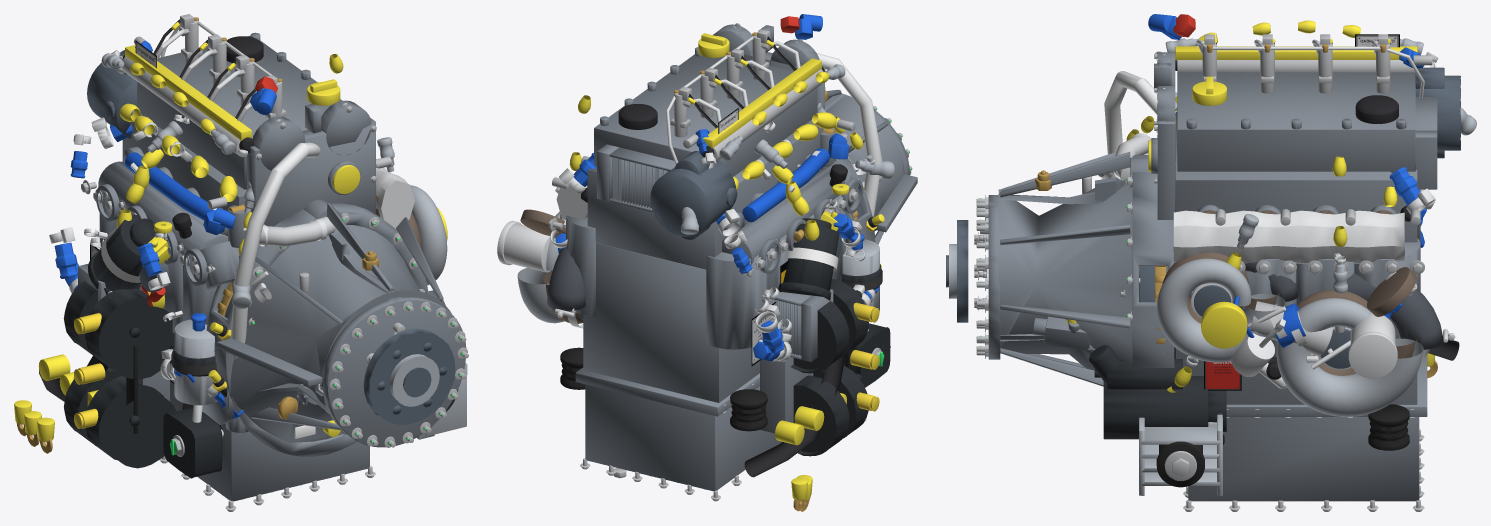
File: vrde_jayem_2_2l.glb
The picture shows the model from 3 angles, left to right: view 1: azimuth 30°, elevation 25°; view 2: azimuth 150°, elevation 25°; view 3: azimuth 270°, elevation 25°; orthographic projection. The views are drawn at different scales.
Visible parts, largest first — view 1: Gearbox_M_CastAluminium_0, Timing_Cover_Front_M_CastAluminium_0, Gearbox_FrontCover_M_CastAluminium_0, Valve_Cover_M_PlasticBlack_0, Generator_1_M_CastAluminium_0, Generator_2_M_CastAluminium_0, Oil_Sump_M_CastAluminium_0, Intermediate_Bellhousing_M_CastAluminium_0, Prop_Flange_M_Steel_0, Intake_Manifold_M_CastAluminium_0, Gearbox_Ribs_M_CastAluminium_0, Crankcase_Breather_Hose_M_BraidedSilver_0 (+32 smaller); view 2: Engine_Block_M_CastAluminium_0, Oil_Sump_M_CastAluminium_0, Valve_Cover_M_PlasticBlack_0, Cylinder_Head_M_CastAluminium_0, HP_Fuel_Pump_M_SteelDark_0, Generator_2_M_CastAluminium_0, Intercooler_M_CastAluminium_0, Generator_1_M_CastAluminium_0, Intake_Manifold_M_CastAluminium_0, Oil_Filter_M_MetalPaintedBlack_0, Gearbox_M_CastAluminium_0, Oil_Cooler_M_CastAluminium_0 (+31 smaller); view 3: Valve_Cover_M_PlasticBlack_0, Gearbox_M_CastAluminium_0, Oil_Sump_M_CastAluminium_0, Exhaust_Heat_Blanket_M_HeatShield_0, Cylinder_Head_M_CastAluminium_0, Turbo_LP_CompressorVolute_M_MachinedAlloy_0, Starter_M_MetalPaintedBlack_0, Intermediate_Bellhousing_M_CastAluminium_0, Engine_Block_M_CastAluminium_0, Turbo_HP_CompressorVolute_M_MachinedAlloy_0, Engine_Mount_Starboard_M_MachinedAlloy_0, Gearbox_Ribs_M_CastAluminium_0 (+35 smaller).
Part boxes in pixels (x1,y1,x2,y2): Gearbox_M_CastAluminium_0: (229,225,451,442); Timing_Cover_Front_M_CastAluminium_0: (247,100,375,226); Gearbox_FrontCover_M_CastAluminium_0: (322,296,466,447); Valve_Cover_M_PlasticBlack_0: (137,32,342,189); Generator_1_M_CastAluminium_0: (63,280,174,379); Generator_2_M_CastAluminium_0: (64,367,175,468); Oil_Sump_M_CastAluminium_0: (170,376,369,501); Intermediate_Bellhousing_M_CastAluminium_0: (206,203,427,456); Prop_Flange_M_Steel_0: (363,328,455,425); Intake_Manifold_M_CastAluminium_0: (98,161,239,289); Gearbox_Ribs_M_CastAluminium_0: (250,202,445,434); Crankcase_Breather_Hose_M_BraidedSilver_0: (231,142,320,359); Engine_Block_M_CastAluminium_0: (566,195,845,402); Oil_Sump_M_CastAluminium_0: (575,367,781,491); Valve_Cover_M_PlasticBlack_0: (594,47,817,176); Cylinder_Head_M_CastAluminium_0: (587,119,823,269); HP_Fuel_Pump_M_SteelDark_0: (650,151,737,239); Generator_2_M_CastAluminium_0: (781,365,868,456); Intercooler_M_CastAluminium_0: (597,144,678,211); Generator_1_M_CastAluminium_0: (790,279,868,373); Intake_Manifold_M_CastAluminium_0: (722,161,855,264); Oil_Filter_M_MetalPaintedBlack_0: (778,218,839,300); Gearbox_M_CastAluminium_0: (825,93,903,216); Oil_Cooler_M_CastAluminium_0: (767,289,833,361); Valve_Cover_M_PlasticBlack_0: (1177,72,1415,171); Gearbox_M_CastAluminium_0: (998,176,1132,370); Oil_Sump_M_CastAluminium_0: (1188,349,1427,501); Exhaust_Heat_Blanket_M_HeatShield_0: (1173,210,1404,263); Cylinder_Head_M_CastAluminium_0: (1175,111,1417,242); Turbo_LP_CompressorVolute_M_MachinedAlloy_0: (1276,298,1423,416); Starter_M_MetalPaintedBlack_0: (1094,359,1226,439); Intermediate_Bellhousing_M_CastAluminium_0: (1132,155,1174,367); Engine_Block_M_CastAluminium_0: (1173,176,1420,404); Turbo_HP_CompressorVolute_M_MachinedAlloy_0: (1156,258,1285,362); Engine_Mount_Starboard_M_MachinedAlloy_0: (1139,413,1222,495); Gearbox_Ribs_M_CastAluminium_0: (1000,151,1130,386).
Bounding box in the file's own units: 1.48 × 1.74 × 1.87.
Materials: 24 (1 with a texture image).
